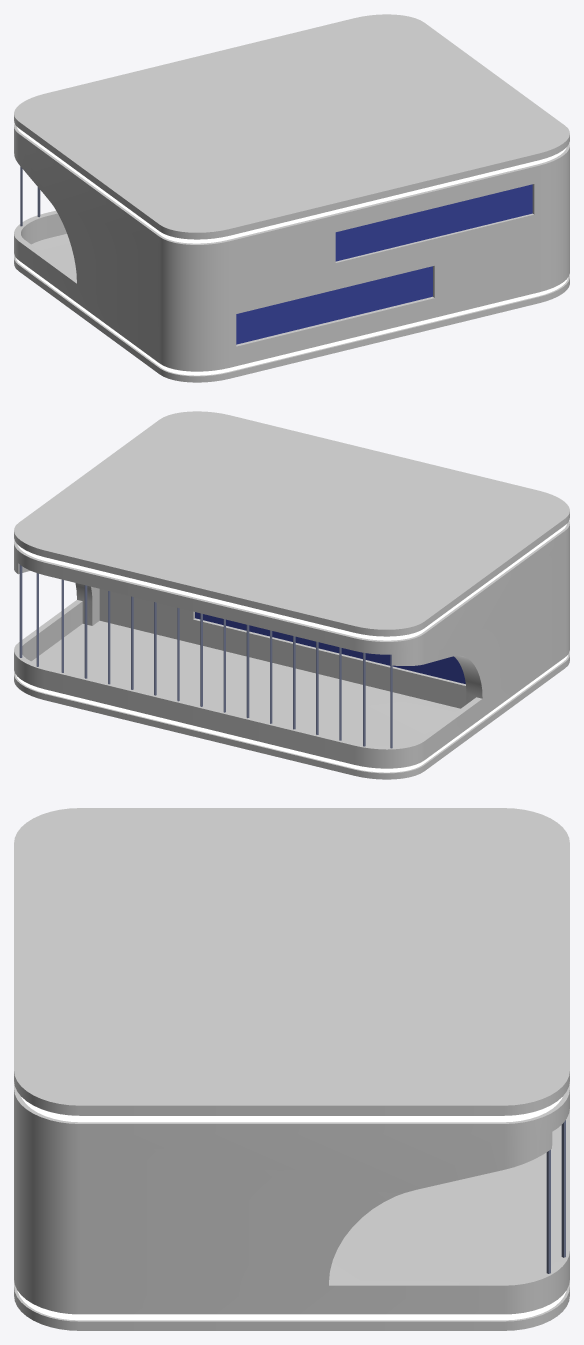
Rendered from SM_B_i2_floor1.fbx.
3 views of the same model, one above another, from view 1: azimuth 30°, elevation 25°; view 2: azimuth 150°, elevation 25°; view 3: azimuth 270°, elevation 25° (orthographic). The views are drawn at different scales.
Parts seen in each view (by area): view 1: 1floor; view 2: 1floor; view 3: 1floor.
Boxes of the visible parts, x1,y1,x2,y2 form: 1floor: [14, 14, 569, 382]; 1floor: [14, 411, 569, 779]; 1floor: [14, 808, 569, 1330].
Size of the model in its own units: 1900 by 671 by 1500.
